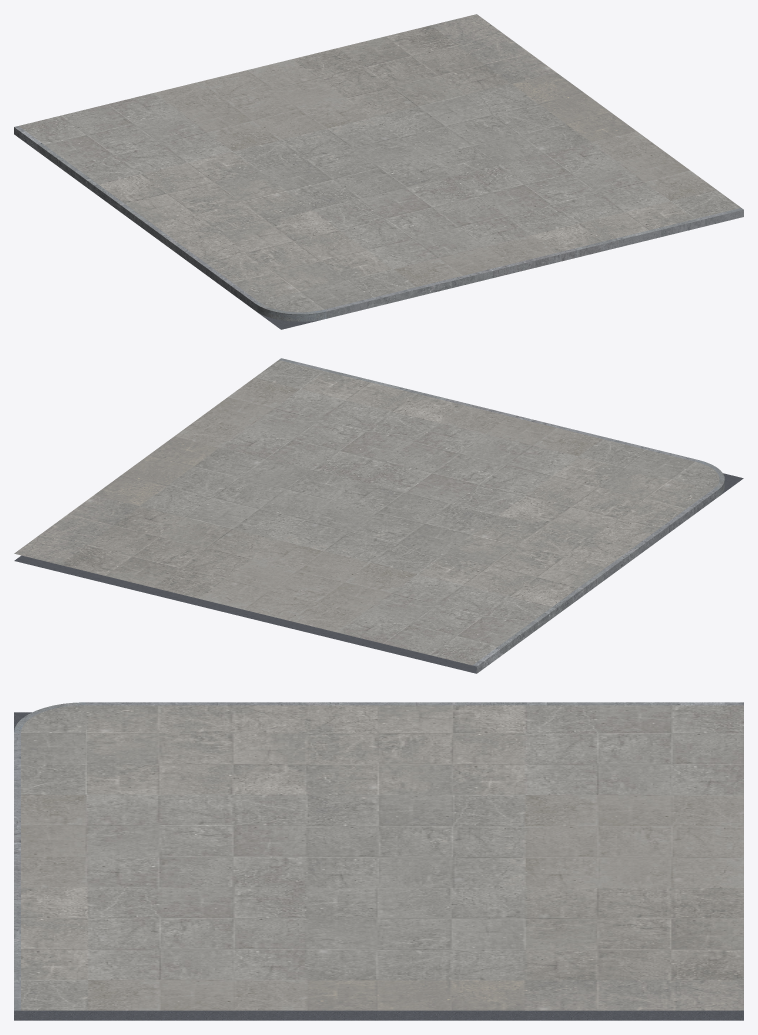
The model's file is sidewalk_10x10_corner.glb.
3 renders of one model, top to bottom at view 1: azimuth 30°, elevation 25°; view 2: azimuth 150°, elevation 25°; view 3: azimuth 270°, elevation 25°, orthographic. The views are drawn at different scales.
Parts seen in each view (by area): view 1: Center Sidewalk; view 2: Center Sidewalk, Plane; view 3: Center Sidewalk, Plane.
Boxes of the visible parts, <box> form: Center Sidewalk: <box>14,14,743,321</box>; Center Sidewalk: <box>14,358,724,673</box>; Plane: <box>14,473,743,673</box>; Center Sidewalk: <box>14,702,743,1010</box>; Plane: <box>14,712,743,1020</box>.
Bounding box in the file's own units: 10 × 0.15 × 10.
Materials: 4 (4 with a texture image).
